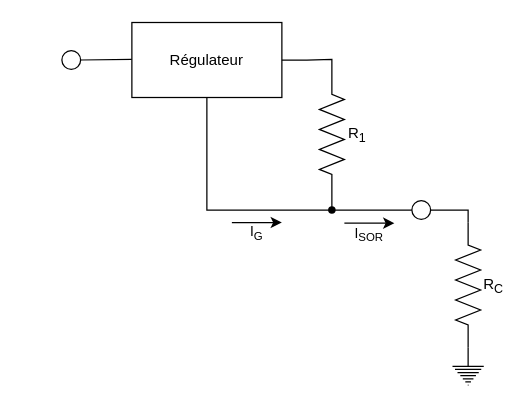
Image size: 525x406. Some labels were removed from this diagram. The box of each missing label's shape, as (x1, y1, x2, y2) in pixels:
V ENT: (61, 49, 81, 69)
V SOR: (411, 199, 431, 219)
